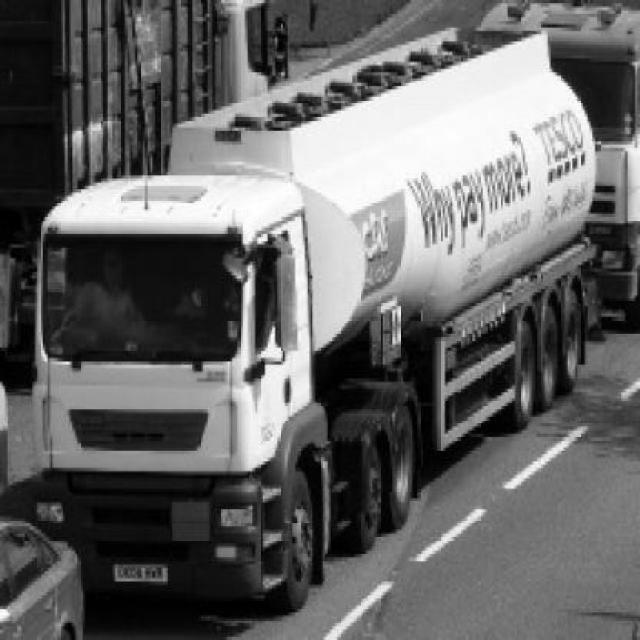Tractor Trailer: (34, 27, 599, 615)
